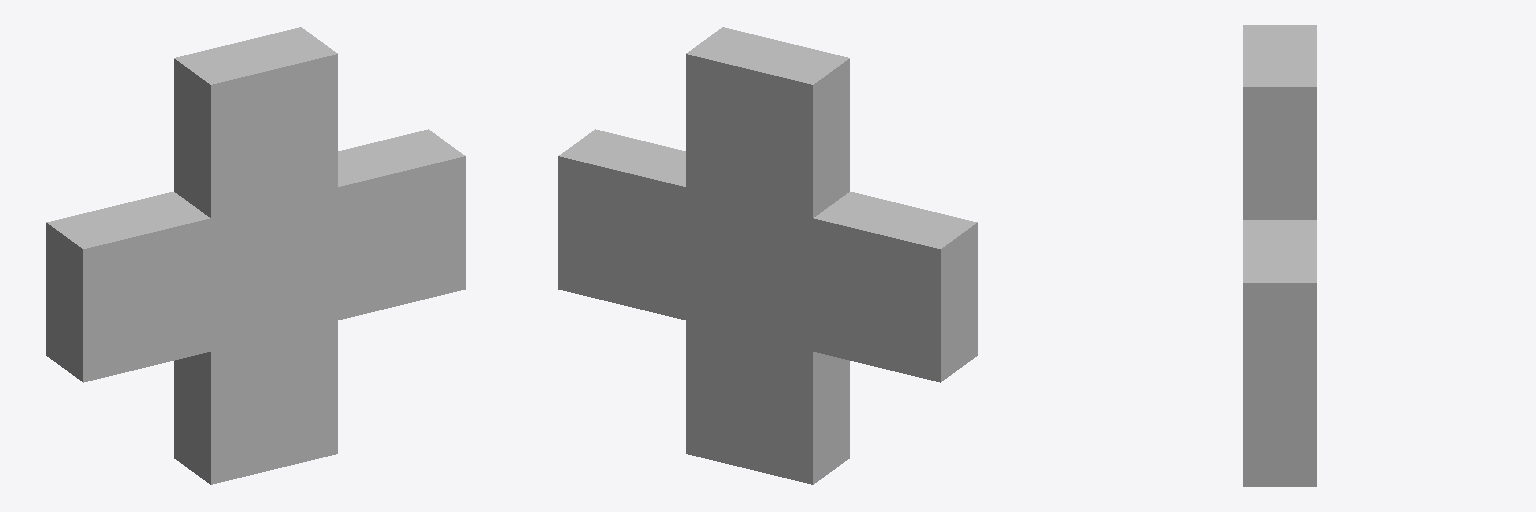
Rendered from Player Radar.obj.
The picture shows the model from 3 angles: view 1: azimuth 30°, elevation 25°; view 2: azimuth 150°, elevation 25°; view 3: azimuth 270°, elevation 25°; orthographic projection.
Parts seen in each view (by area): view 1: Ship; view 2: Ship; view 3: Ship.
Part boxes in pixels (bbox=[...]): Ship: bbox=[46, 27, 465, 484]; Ship: bbox=[558, 27, 977, 484]; Ship: bbox=[1243, 25, 1316, 486].
Bounding box in the file's own units: 0.6 × 0.6 × 0.1.